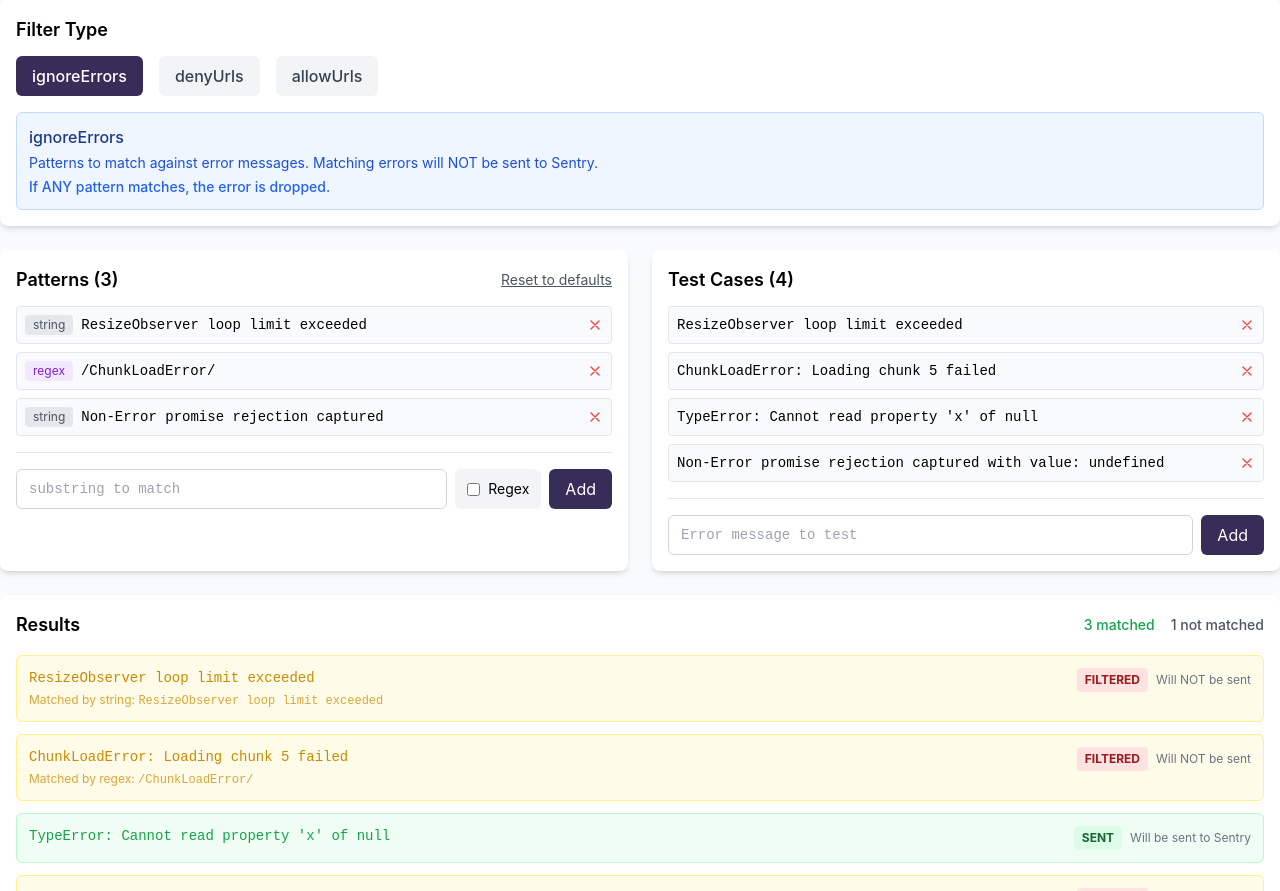
Scenario: PatternTesterPlayground › switches filter types
The width and height of the screenshot is (1280, 891).
# Click denyUrls button
Click the button "denyUrls" at (209, 76), box [159, 56, 260, 96]
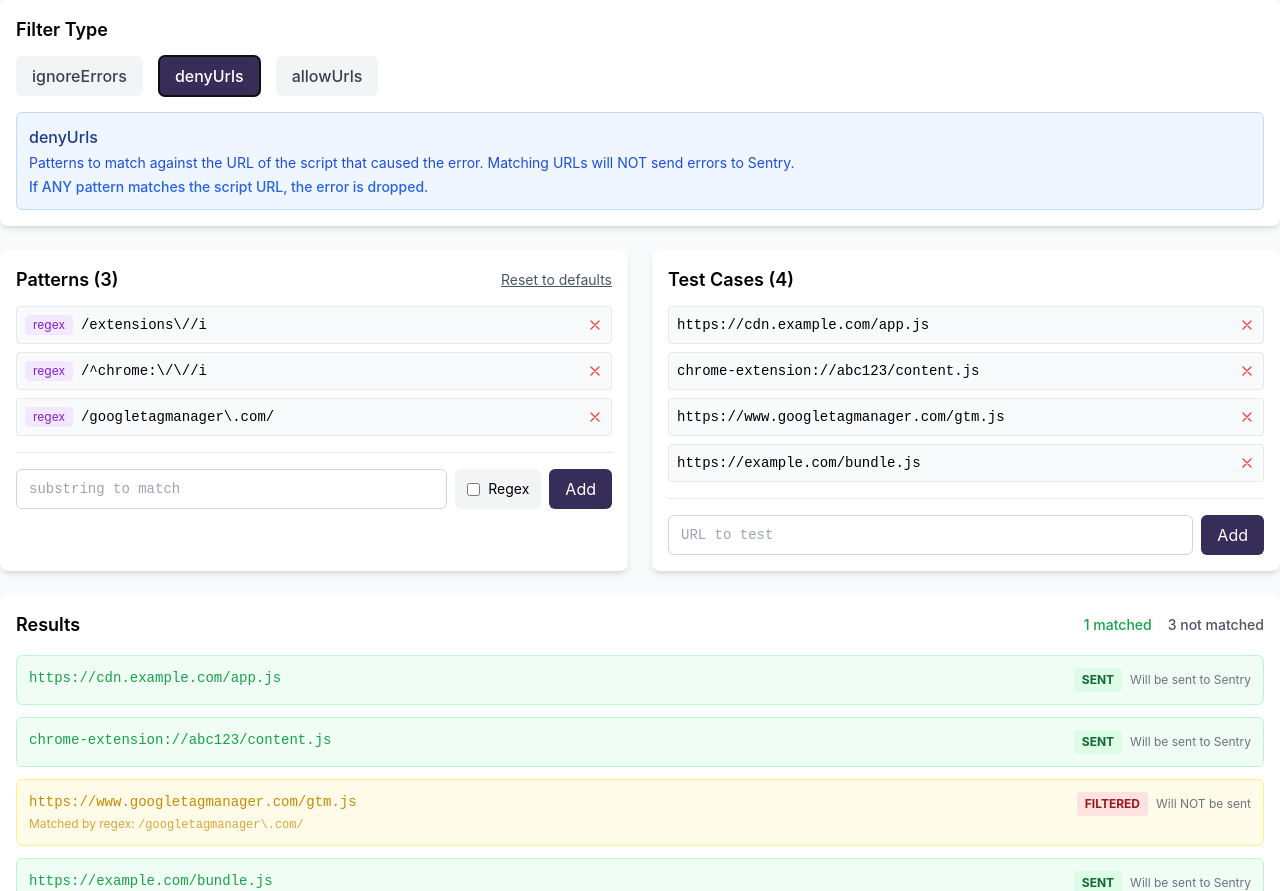
Expected: the text "script that caused the error" is shown, [29, 154, 794, 171]
# Click allowUrls button
Click the button "allowUrls" at (327, 76), box [276, 56, 378, 96]
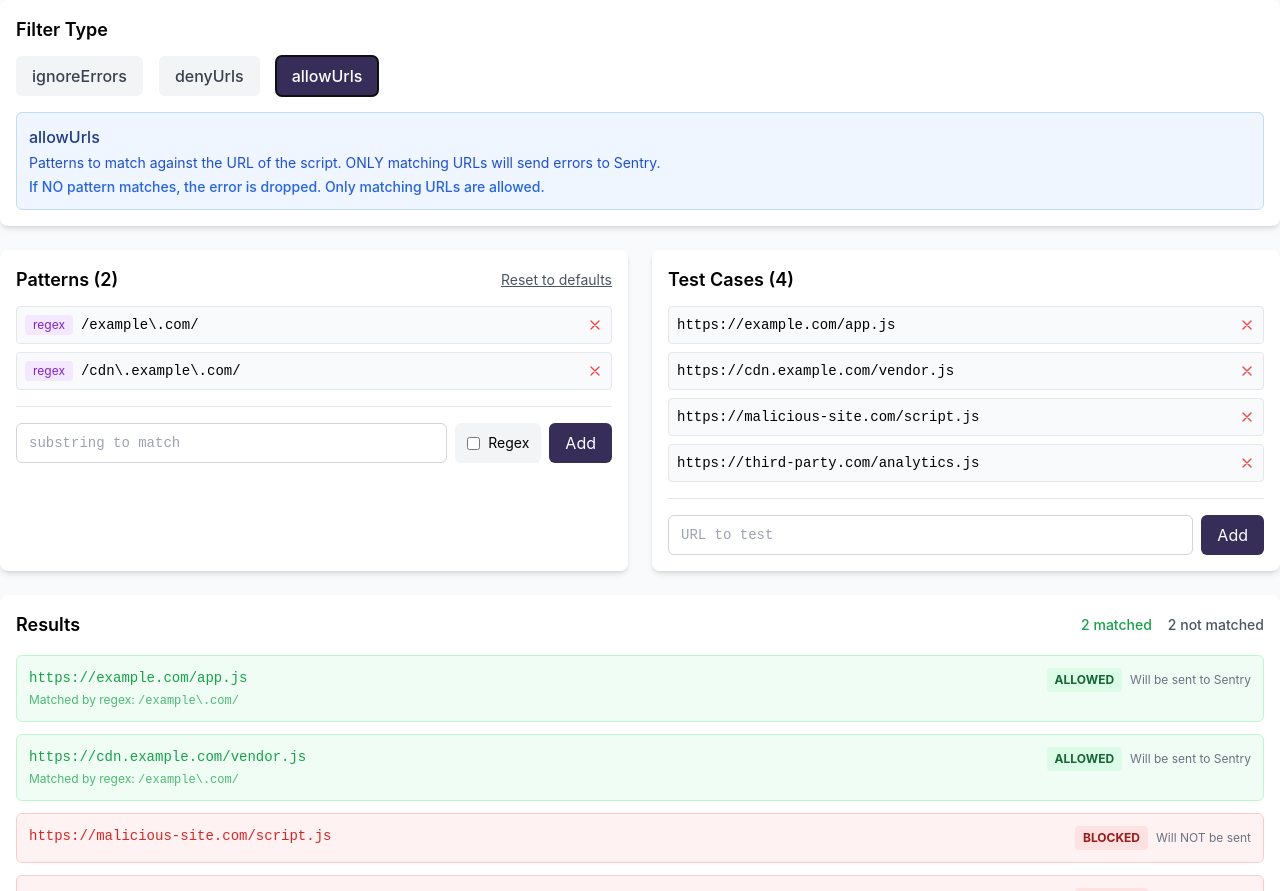
Expected: the text "ONLY matching URLs" is shown, [29, 154, 660, 171]
